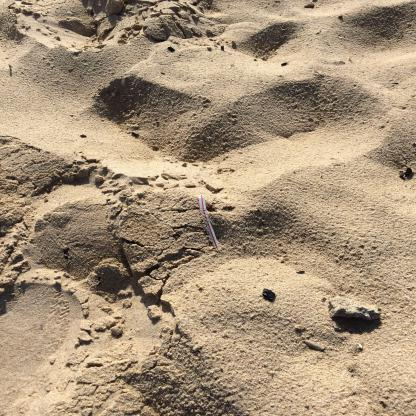plastik: (199, 196, 221, 250)
